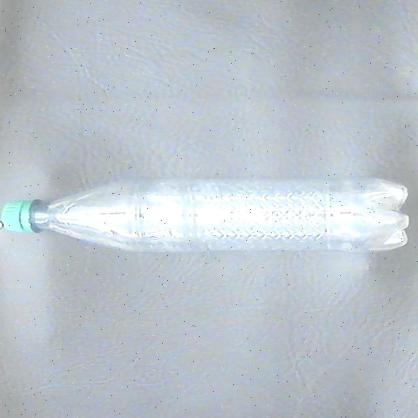bottle: (2, 173, 413, 255)
cap: (0, 187, 44, 238)
